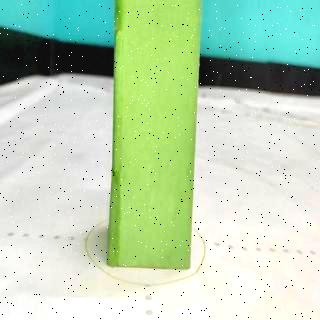greenbox: (108, 1, 202, 270)
